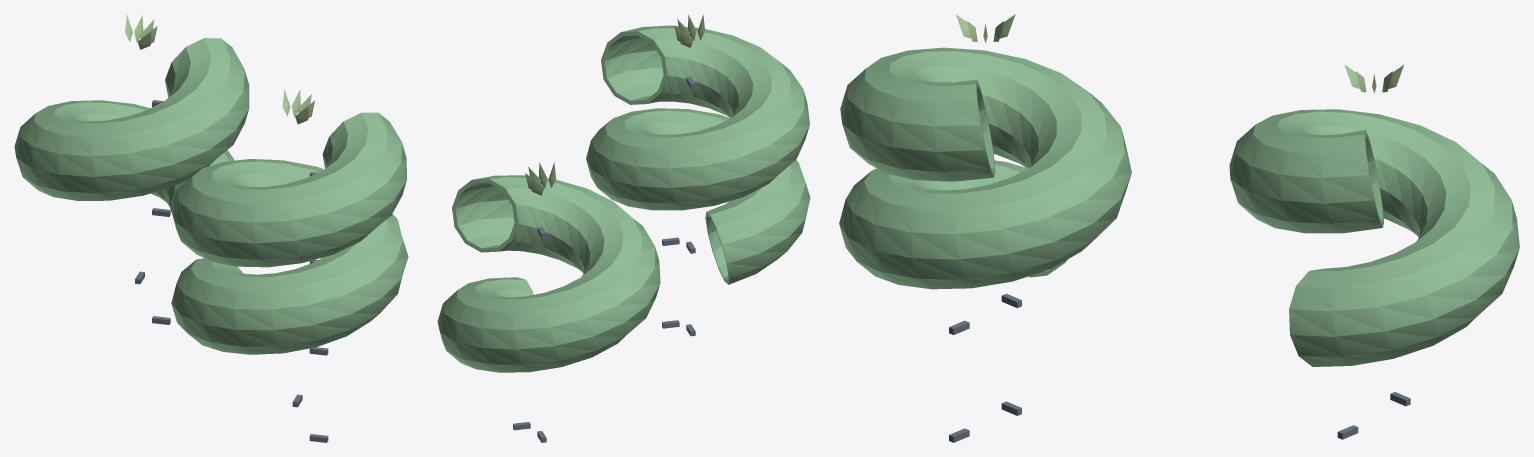
File: tt_leisure_slide_tubes_c.glb
3 views of the same model, side by side, from view 1: azimuth 30°, elevation 25°; view 2: azimuth 150°, elevation 25°; view 3: azimuth 270°, elevation 25° (orthographic). The views are drawn at different scales.
Visible parts, largest first — view 1: Slide_Tube, Helix_LeafCrown, Tube_HardwareArms; view 2: Slide_Tube, Helix_LeafCrown, Tube_HardwareArms; view 3: Slide_Tube, Helix_LeafCrown, Tube_HardwareArms.
Part boxes in pixels (left/top/right/bottom): Slide_Tube: left=14, top=38, right=408, bottom=354; Helix_LeafCrown: left=125, top=15, right=314, bottom=124; Tube_HardwareArms: left=135, top=100, right=328, bottom=442; Slide_Tube: left=437, top=25, right=810, bottom=372; Helix_LeafCrown: left=525, top=14, right=705, bottom=195; Tube_HardwareArms: left=513, top=77, right=695, bottom=442; Slide_Tube: left=839, top=47, right=1519, bottom=366; Helix_LeafCrown: left=956, top=14, right=1404, bottom=93; Tube_HardwareArms: left=949, top=293, right=1410, bottom=442.
Size of what is drawn, in the model's own units: 2.64 by 4.15 by 6.13.
3 materials, 1 textured.
